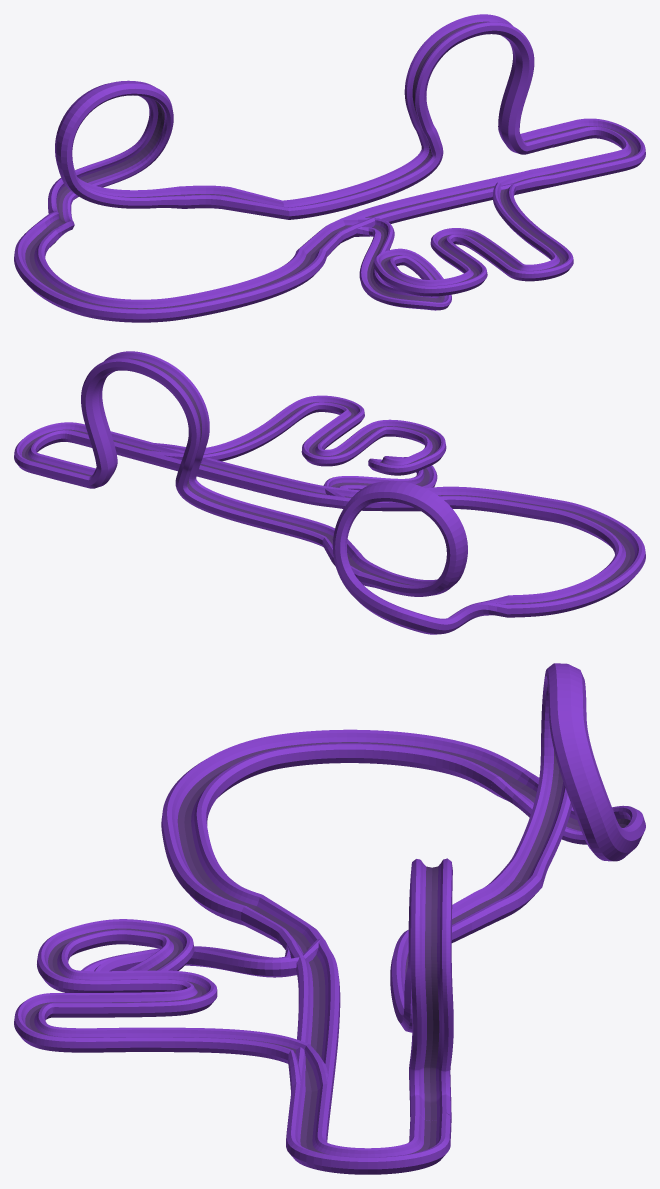
The model's file is upgrade3 (2).fbx.
3 renders of one model, top to bottom at view 1: azimuth 30°, elevation 25°; view 2: azimuth 150°, elevation 25°; view 3: azimuth 270°, elevation 25°, orthographic. The views are drawn at different scales.
Parts seen in each view (by area): view 1: upgrade2, UPGRADE3, maintrack1, upgrade1, degrade3; view 2: upgrade2, UPGRADE3, upgrade1, maintrack1, degrade3; view 3: UPGRADE3, upgrade2, maintrack1, upgrade1, degrade3.
Part boxes in pixels (x1=…): upgrade2: x1=221, y1=14, x2=645, y2=256; UPGRADE3: x1=342, y1=167, x2=573, y2=310; maintrack1: x1=14, y1=185, x2=326, y2=322; upgrade1: x1=34, y1=80, x2=185, y2=238; degrade3: x1=341, y1=172, x2=549, y2=228; upgrade2: x1=14, y1=351, x2=420, y2=560; UPGRADE3: x1=143, y1=395, x2=446, y2=497; upgrade1: x1=332, y1=481, x2=508, y2=634; maintrack1: x1=331, y1=486, x2=645, y2=617; degrade3: x1=141, y1=444, x2=351, y2=508; UPGRADE3: x1=14, y1=919, x2=327, y2=1092; upgrade2: x1=241, y1=858, x2=502, y2=1174; maintrack1: x1=161, y1=729, x2=542, y2=925; upgrade1: x1=491, y1=663, x2=645, y2=886; degrade3: x1=287, y1=938, x2=340, y2=1092.
Size of the model in its own units: 2177 by 570 by 1344.
